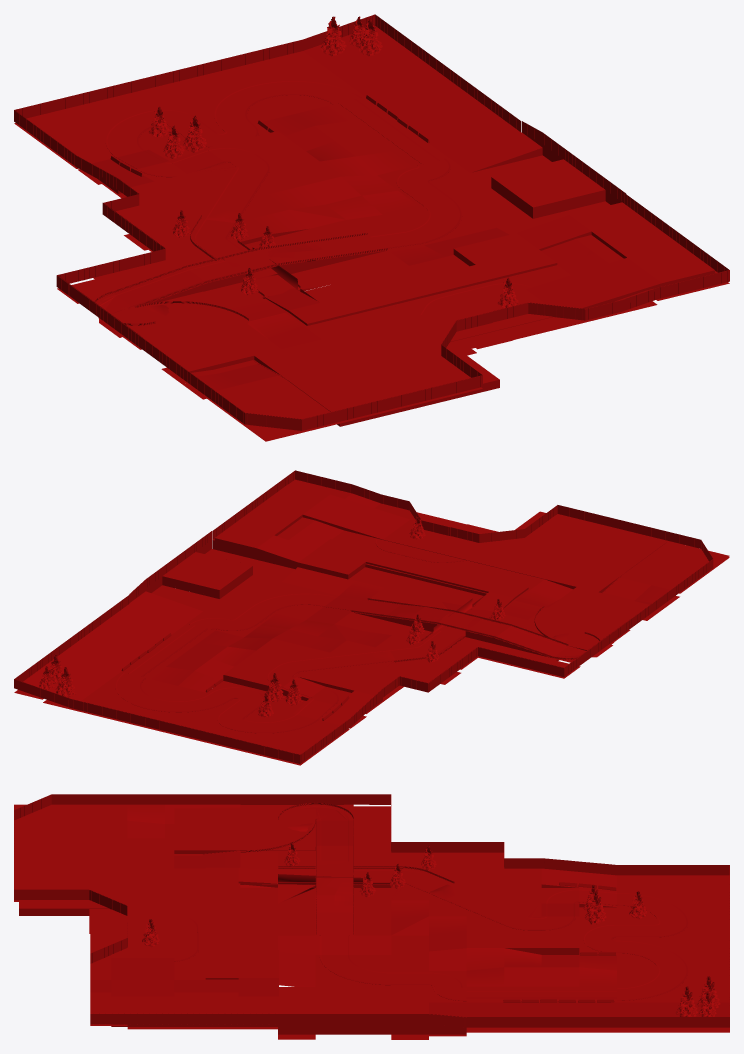
3 renders of one model, top to bottom at view 1: azimuth 30°, elevation 25°; view 2: azimuth 150°, elevation 25°; view 3: azimuth 270°, elevation 25°, orthographic. The views are drawn at different scales.
Visible parts, largest first — view 1: map2.002, Cube_Cube.001; view 2: map2.002, Cube_Cube.001; view 3: map2.002, Cube_Cube.001.
Boxes of the visible parts, <box> form: map2.002: <box>14,14,729,441</box>; Cube_Cube.001: <box>111,202,714,426</box>; map2.002: <box>14,470,729,765</box>; Cube_Cube.001: <box>214,484,666,650</box>; map2.002: <box>14,794,729,1039</box>; Cube_Cube.001: <box>19,808,315,1026</box>.
Bounding box in the file's own units: 908 × 83.73 × 1230.
